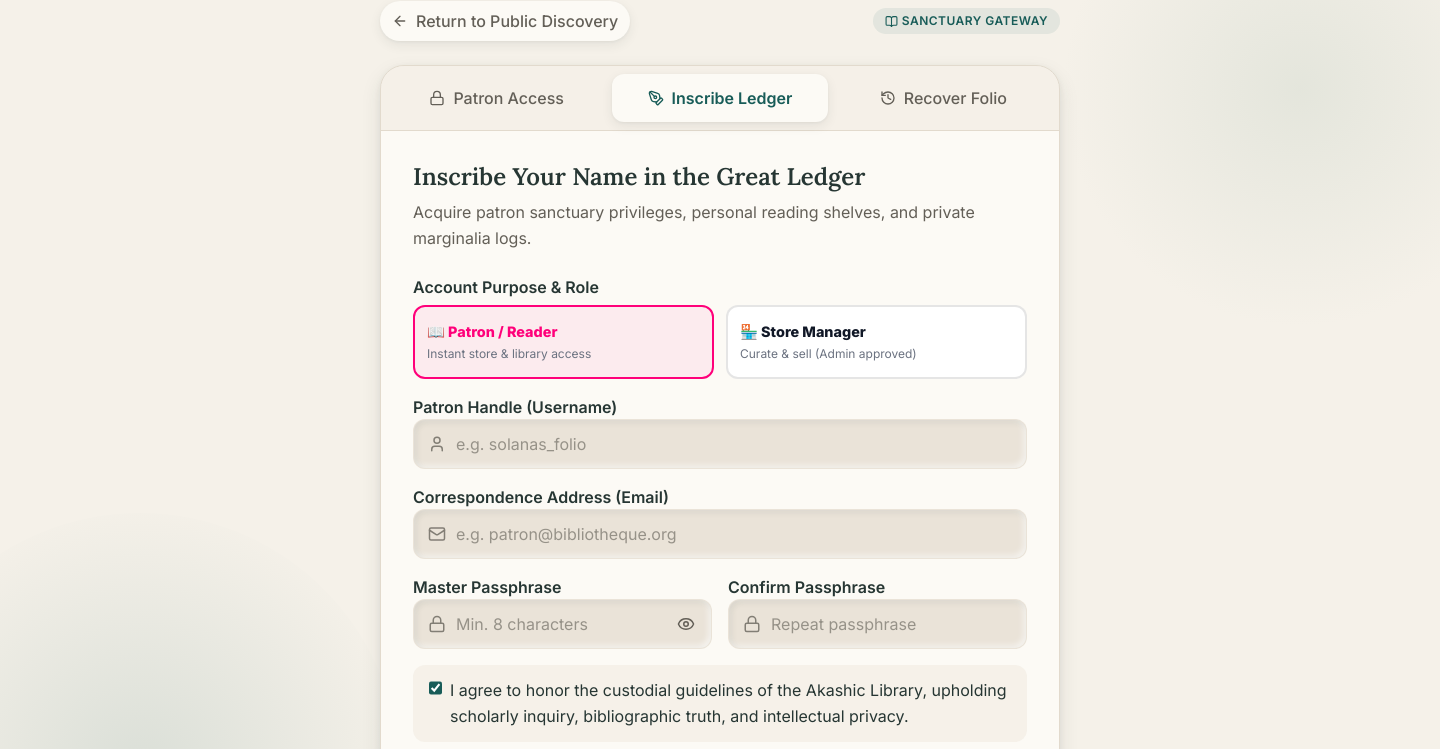
Test case: AuthPage — Patron Authentication Hub › 9. registers successfully and transitions to sign in with success feedback
This screenshot has width=1440, height=749.
Type "patron_elena" into the field labelled "Patron Handle (Username)" at (720, 444), box [414,420,1026,468]
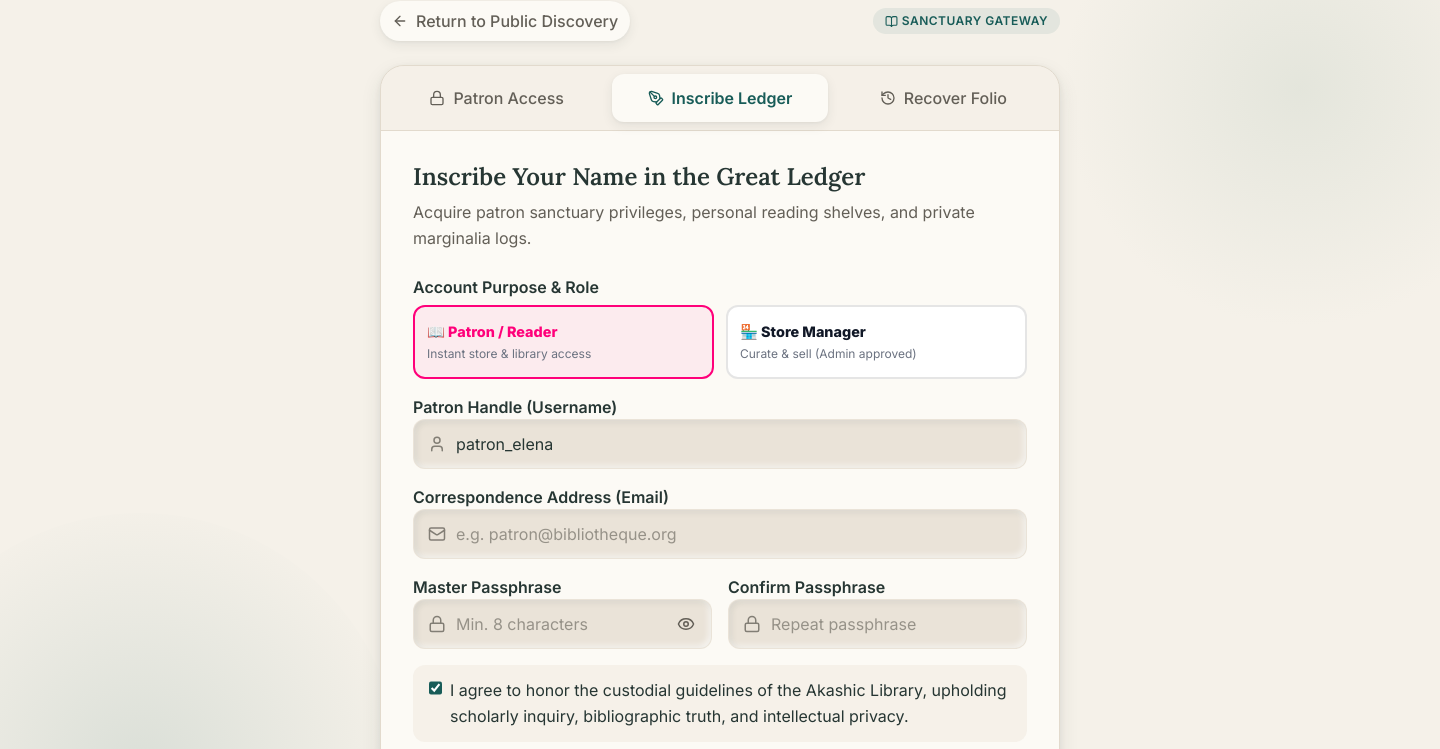
Type "elena@akashic.org" into the field labelled "Correspondence Address (Email)" at (720, 534), box [414,510,1026,558]
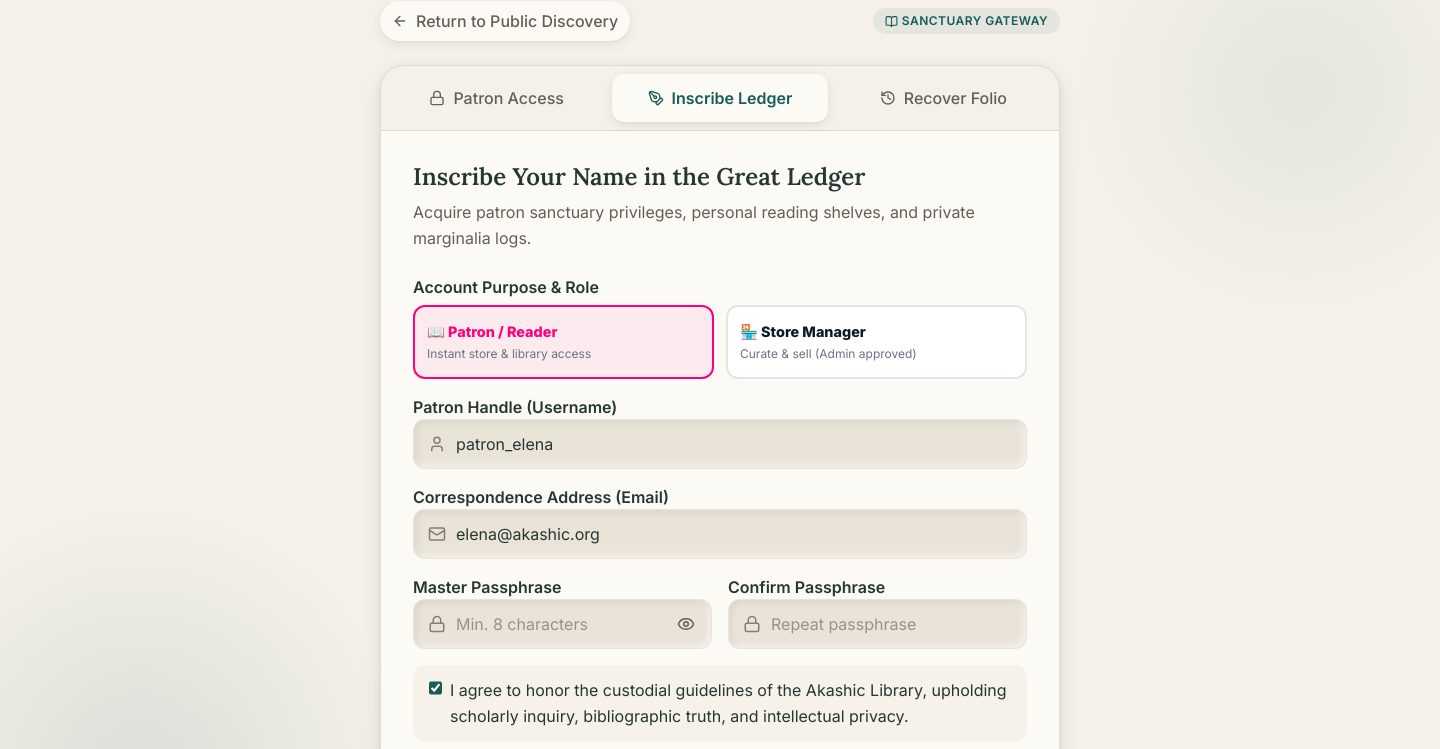
Type "SecretKey123!" into the password field labelled "Master Passphrase" at (562, 624), box [414,600,711,648]
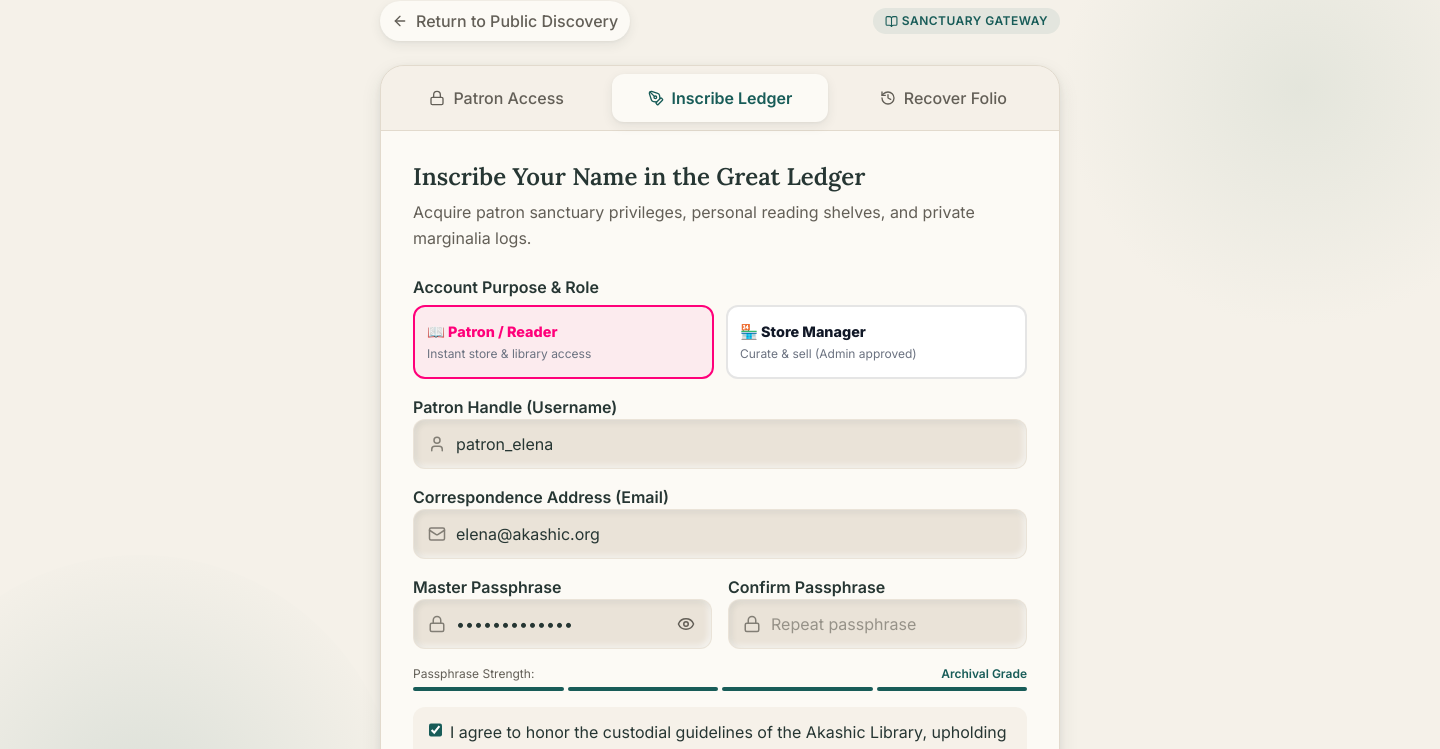
Type "SecretKey123!" into the password field labelled "Confirm Passphrase" at (878, 624), box [729,600,1026,648]
(page scrolled)
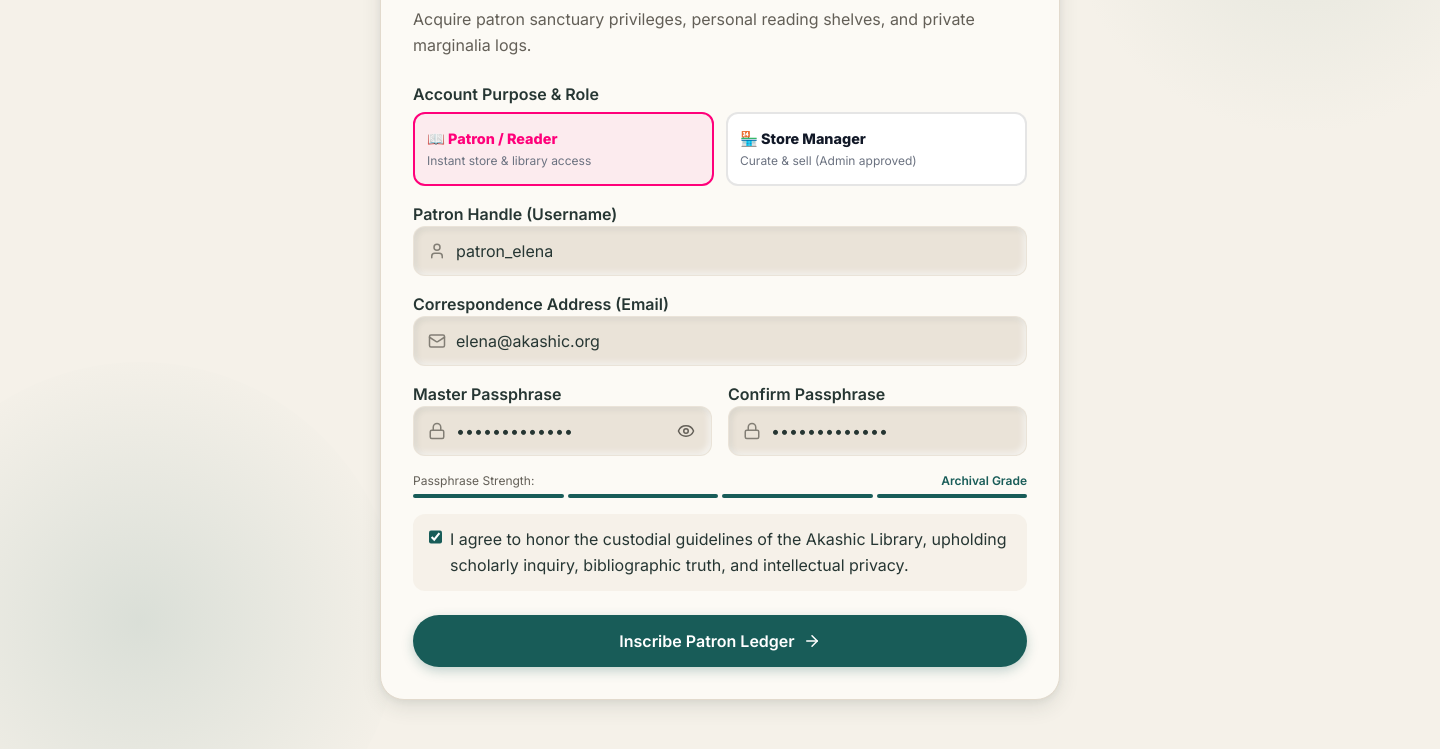
Submit the form named "Inscribe Patron Ledger", box [413,82,1027,667]
(page scrolled)
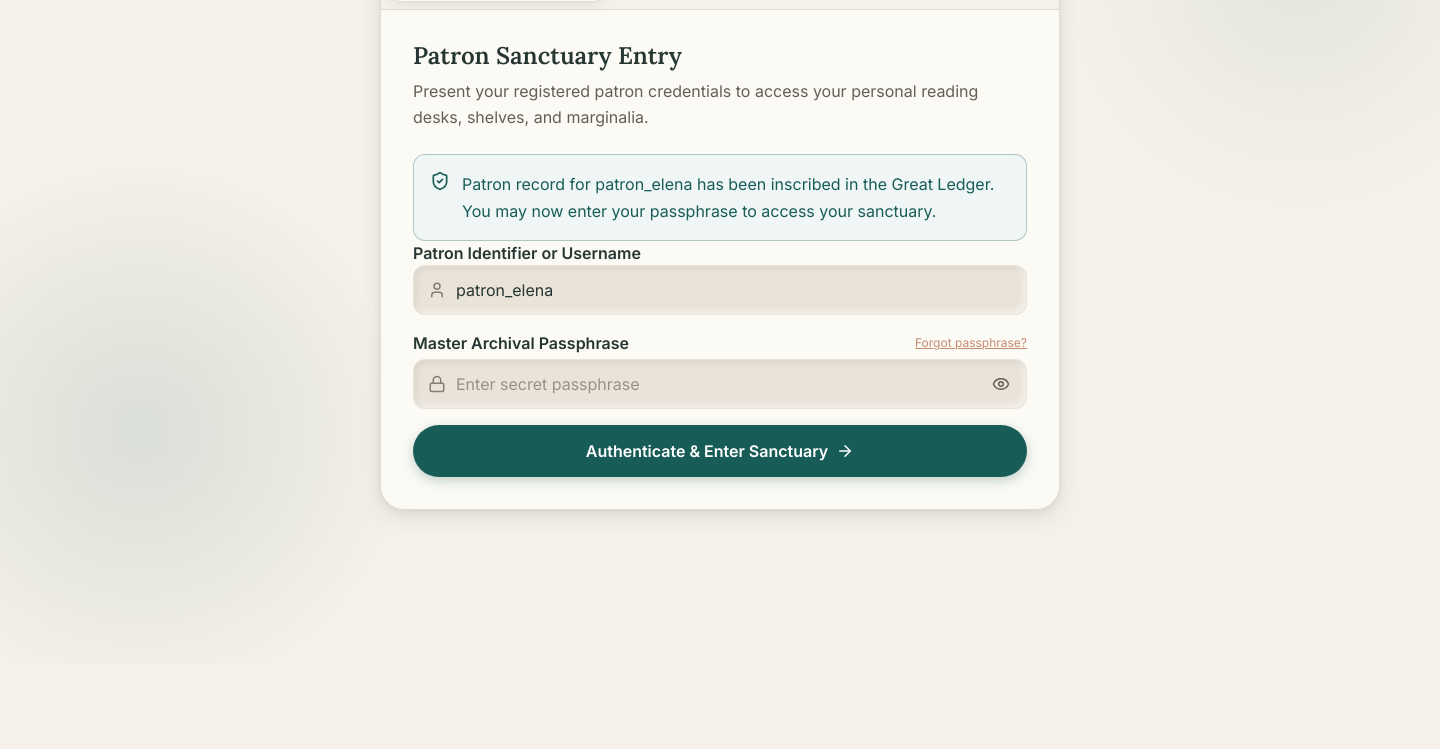
Expected: the text "Patron record for patron_elena has been inscribed in the Great Ledger" is shown, [462,174,994,221]
